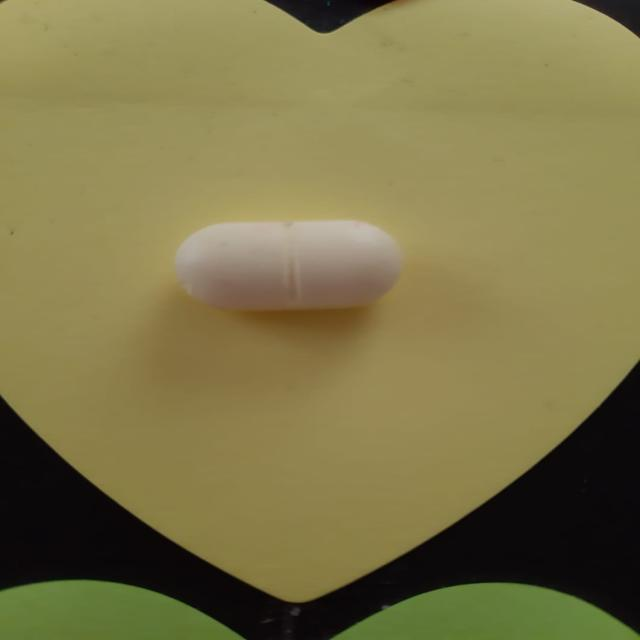pills: (169, 211, 417, 316)
